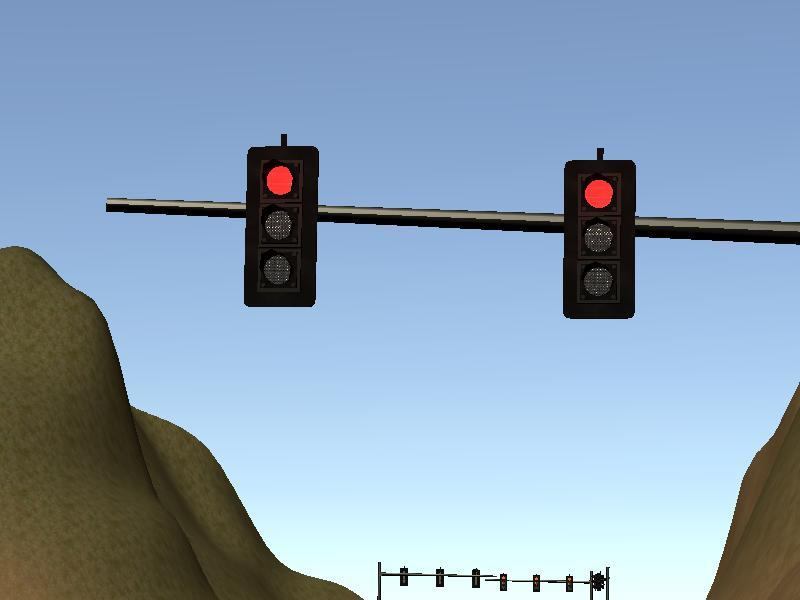Red: (245, 146, 318, 307), (563, 160, 636, 321), (532, 574, 541, 593), (499, 574, 507, 594), (565, 574, 573, 592)
